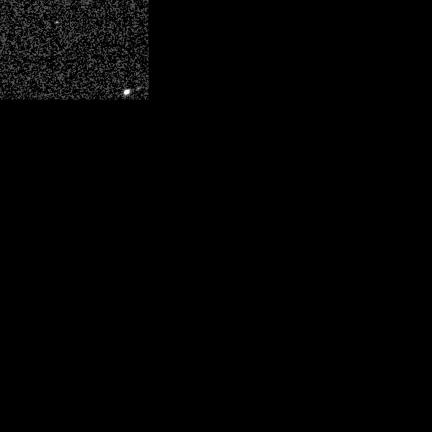blob: (125, 90, 129, 94)
